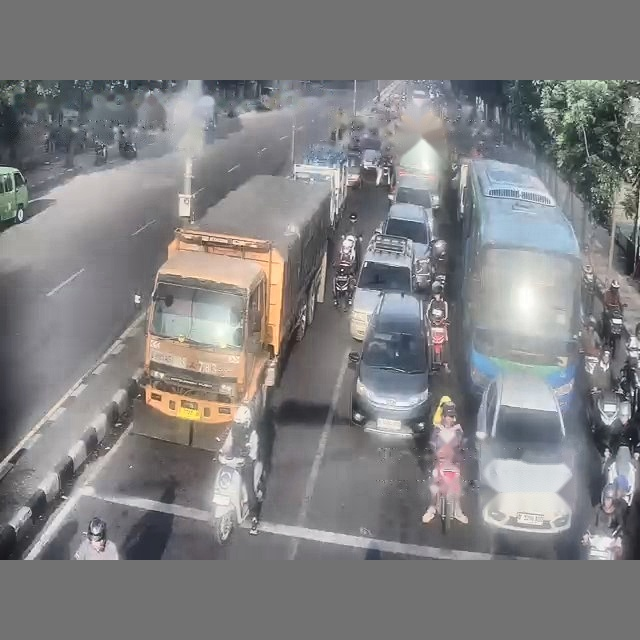Bis: (459, 159, 581, 410)
Mobil: (476, 371, 576, 535), (348, 292, 430, 436), (350, 233, 417, 340), (380, 203, 434, 288), (389, 175, 438, 209), (347, 152, 361, 187), (362, 148, 380, 170)
Motor: (212, 453, 249, 544), (588, 388, 621, 456), (603, 445, 639, 505), (428, 307, 448, 369), (584, 529, 622, 560), (333, 265, 355, 311), (603, 307, 623, 356), (118, 140, 136, 159), (94, 141, 107, 165)
Truk: (132, 175, 331, 450), (292, 145, 347, 228)
